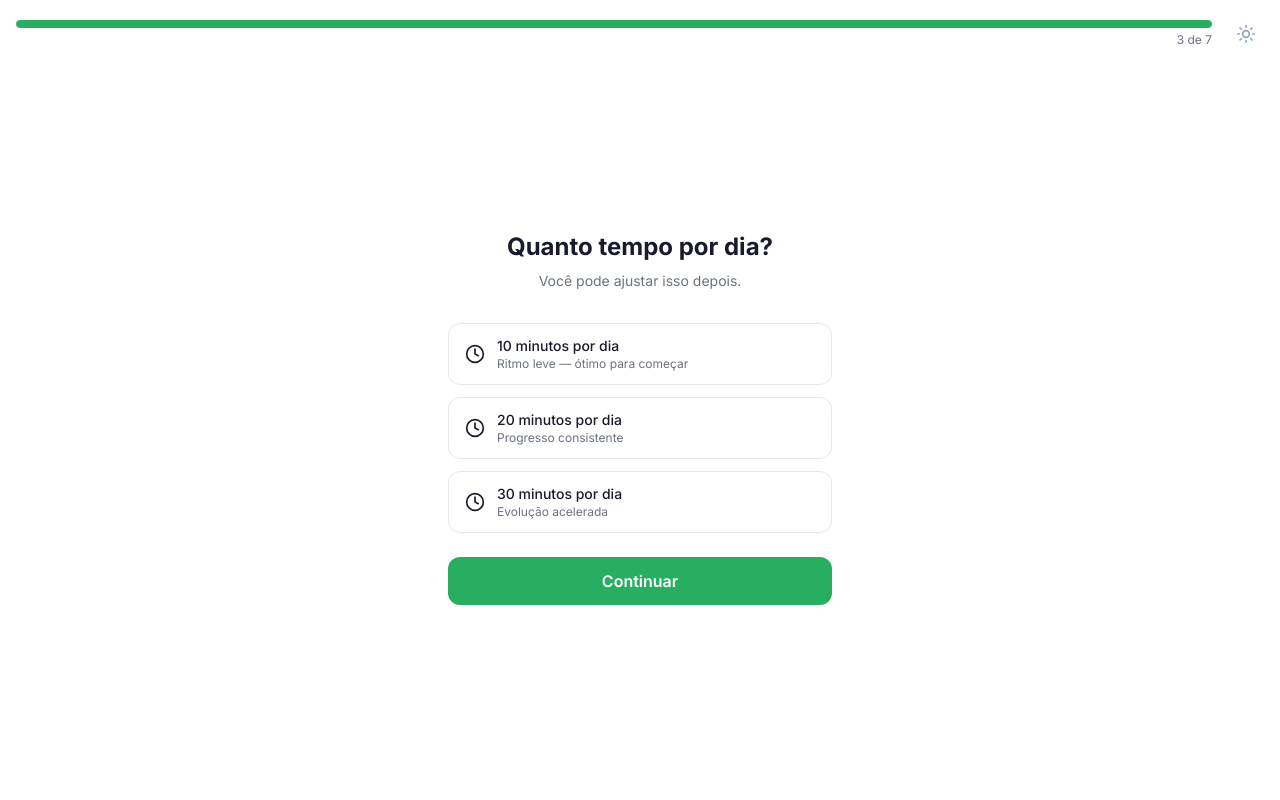
Test: HorarioPage › shows error when continuing without selection
Click the button "Continuar" at {"x": 640, "y": 581}, box top-left (448, 557), bottom-right (832, 605)
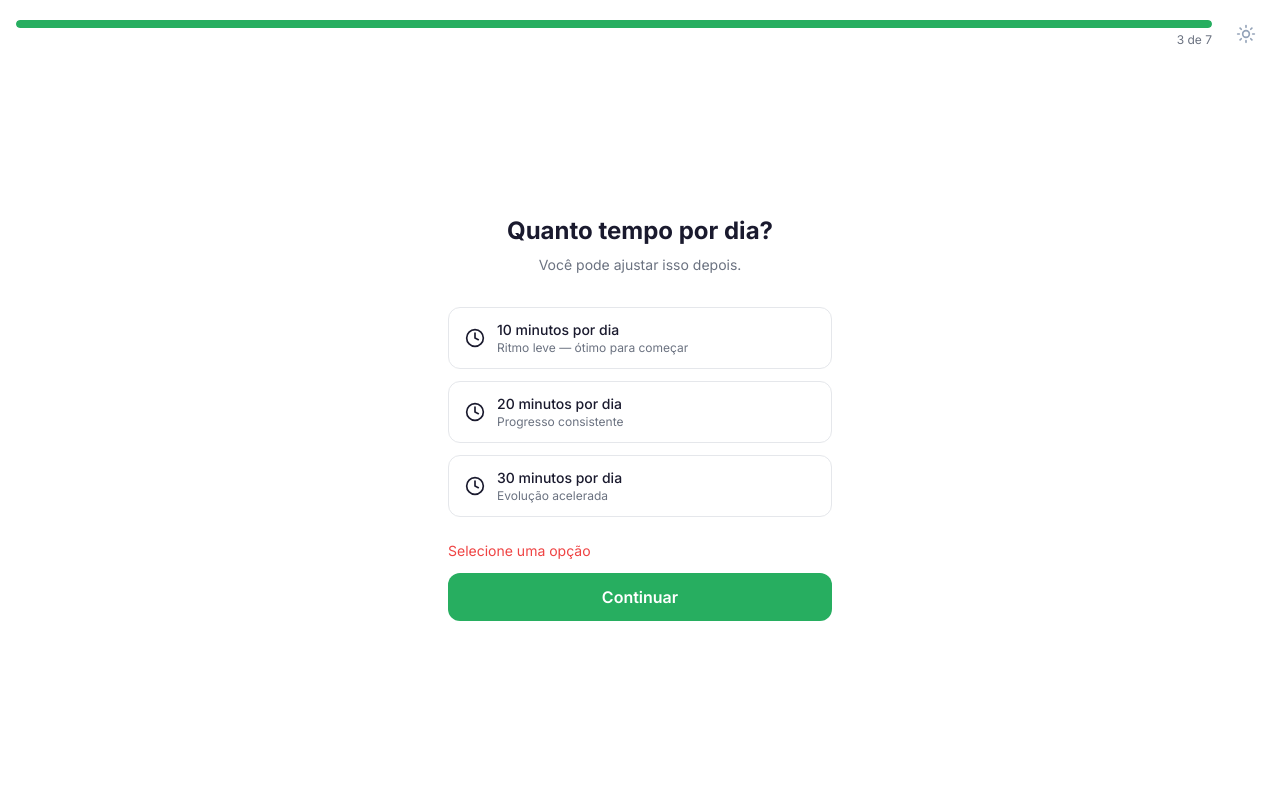
Expected: the text "Selecione uma opção" is shown, top-left (448, 542), bottom-right (591, 559)
